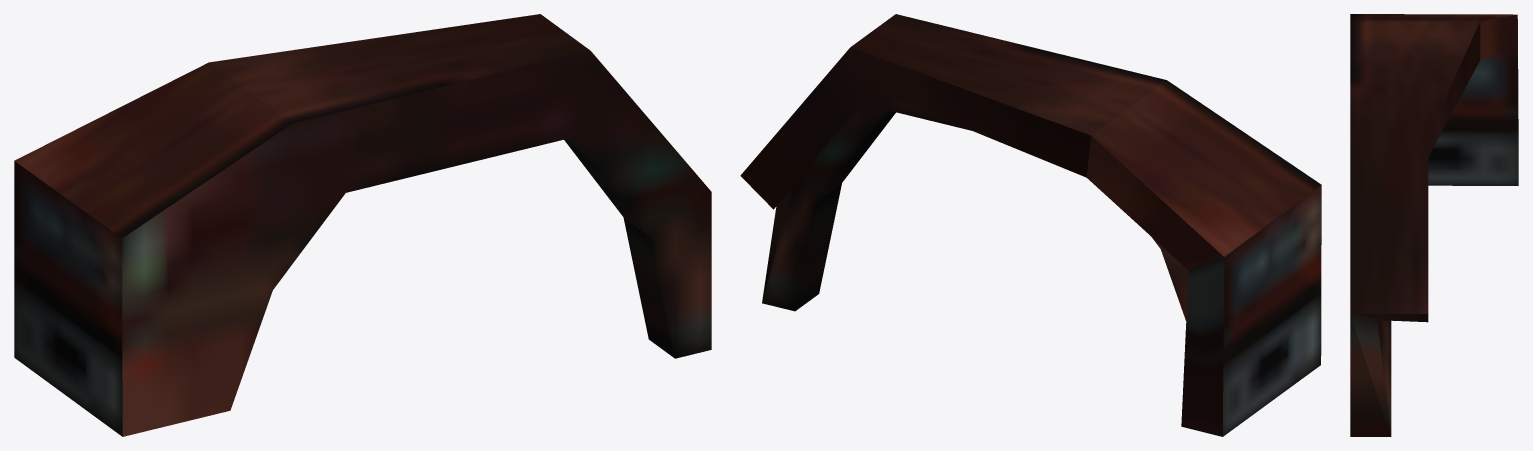
The model's file is Shared - Armor - Tanker Truck - Damage State 07 - CVTanker_d07.glb.
3 renders of one model, left to right at view 1: azimuth 30°, elevation 25°; view 2: azimuth 150°, elevation 25°; view 3: azimuth 270°, elevation 25°, orthographic. The views are drawn at different scales.
Visible parts, largest first — view 1: CVTANKER_D07; view 2: CVTANKER_D07; view 3: CVTANKER_D07.
Boxes of the visible parts, <box> form: CVTANKER_D07: <box>14,14,711,436</box>; CVTANKER_D07: <box>740,14,1321,436</box>; CVTANKER_D07: <box>1350,14,1518,436</box>.
Bounding box in the file's own units: 7.87 × 4.19 × 2.5.
1 material, 1 textured.
